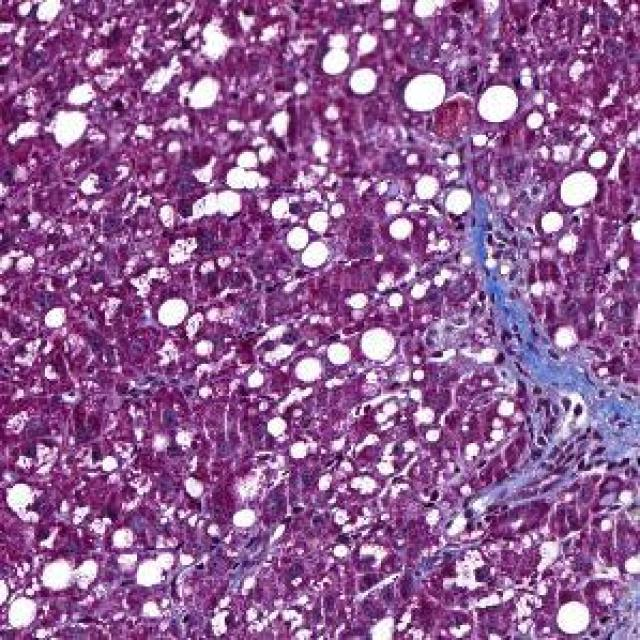fibrosis: (456, 231, 640, 458)
